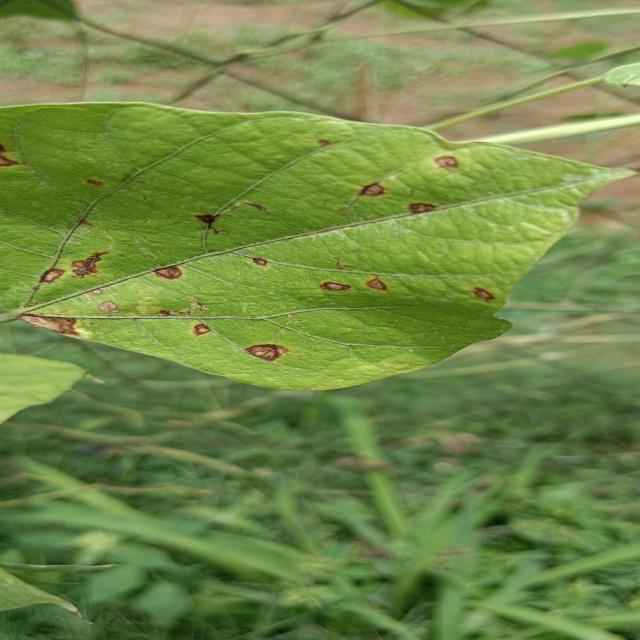Dolicos bean_cercospora leaf spot: (0, 102, 640, 392)
